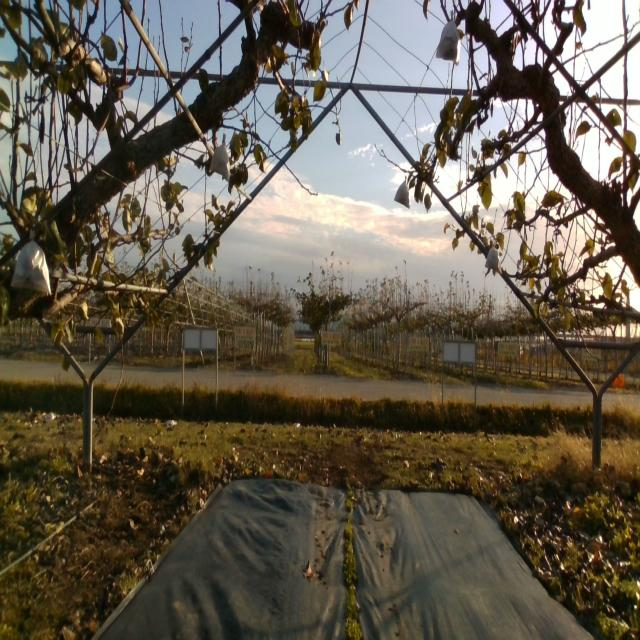pearbags: (12, 228, 52, 293), (436, 11, 458, 64), (208, 133, 231, 182), (484, 242, 503, 273), (394, 178, 410, 208)
